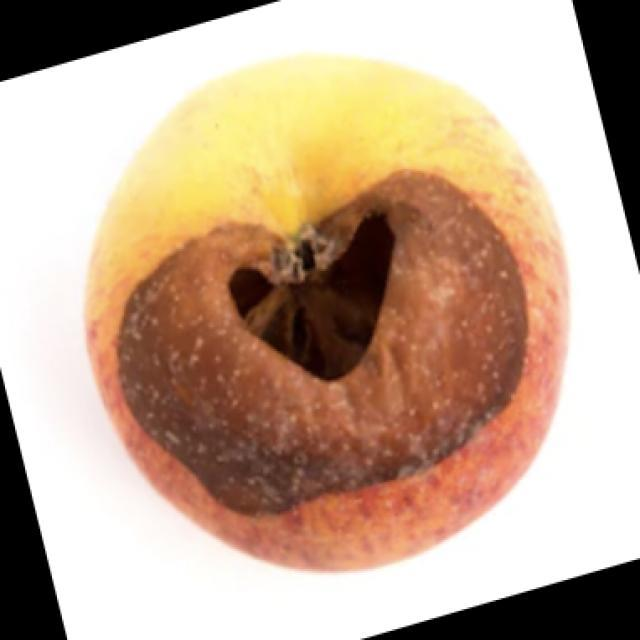Rotten: (91, 58, 556, 560)
